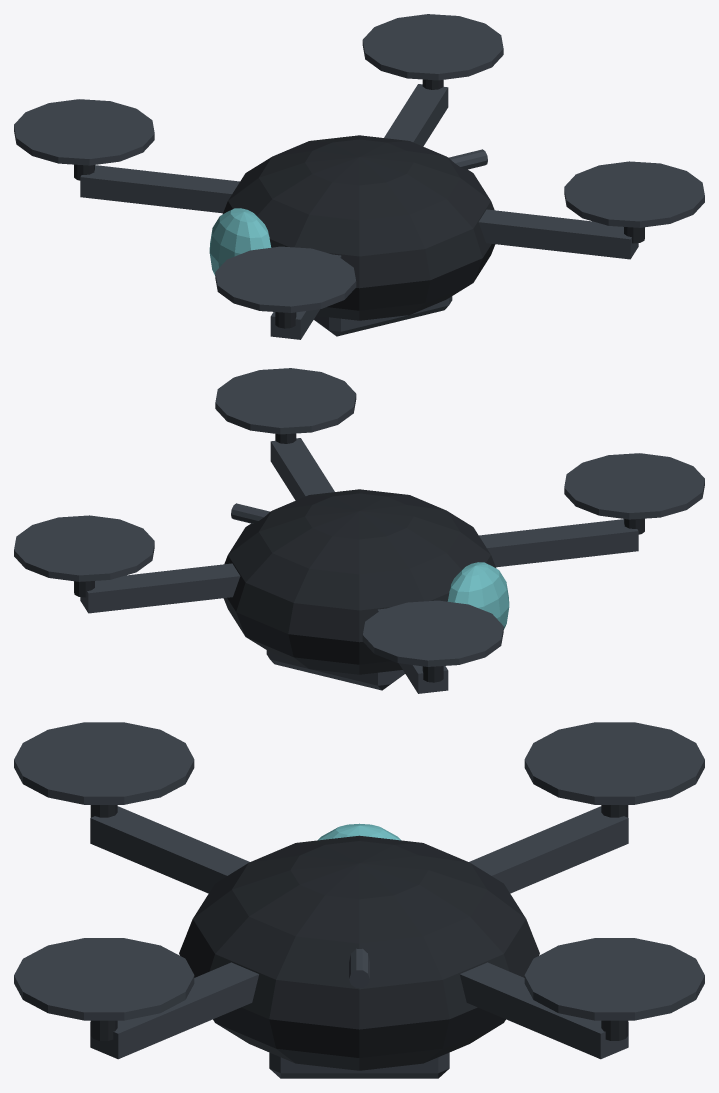
The model's file is utileria.glb.
The picture shows the model from 3 angles, top to bottom: view 1: azimuth 30°, elevation 25°; view 2: azimuth 150°, elevation 25°; view 3: azimuth 270°, elevation 25°; orthographic projection. The views are drawn at different scales.
Visible parts, largest first — view 1: dron, pistola; view 2: dron, pistola; view 3: dron, pistola.
Part boxes in pixels (box(x1,y1,x2,y2)): dron: box(14, 14, 704, 339); pistola: box(449, 149, 487, 169); dron: box(14, 368, 704, 693); pistola: box(231, 503, 269, 523); dron: box(14, 722, 704, 1078); pistola: box(349, 948, 369, 987).
Bounding box in the file's own units: 0.7911 × 0.2314 × 0.7963.
